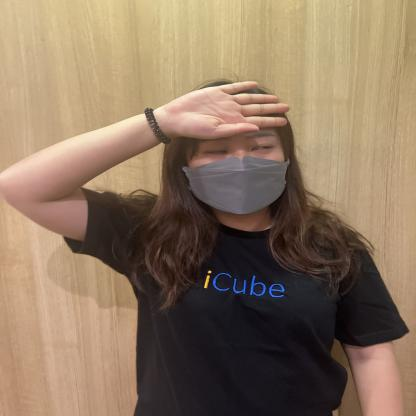Sick: (70, 57, 304, 166)
